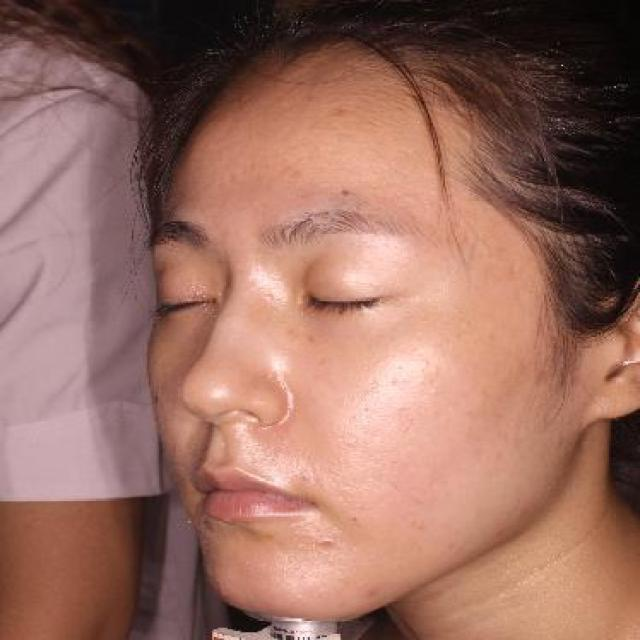dark spot: (313, 529, 342, 554), (363, 582, 385, 604)
whiteheads: (419, 363, 448, 377), (428, 382, 443, 398)
